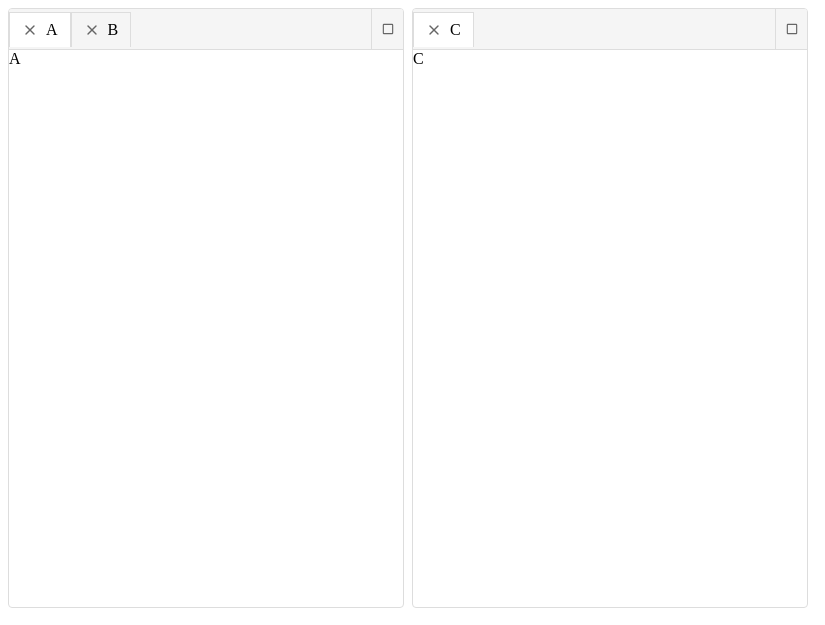
Test case: Layout component › maximizes a tabset and hides siblings while keeping them mounted
The image size is (825, 625).
Click the 2nd button with class "react-flex-layout-tabset-maximize" at point(791, 29), box [775,9,807,49]
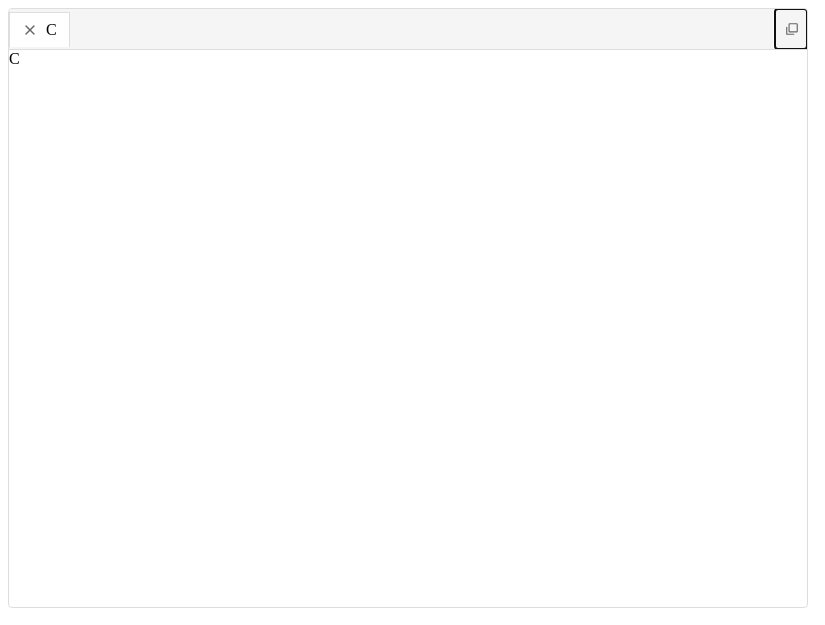
Expected: the text with test id "content-cc" is shown, [9,50,20,67]
Expected: no elements with class "react-flex-layout-splitter" are shown
